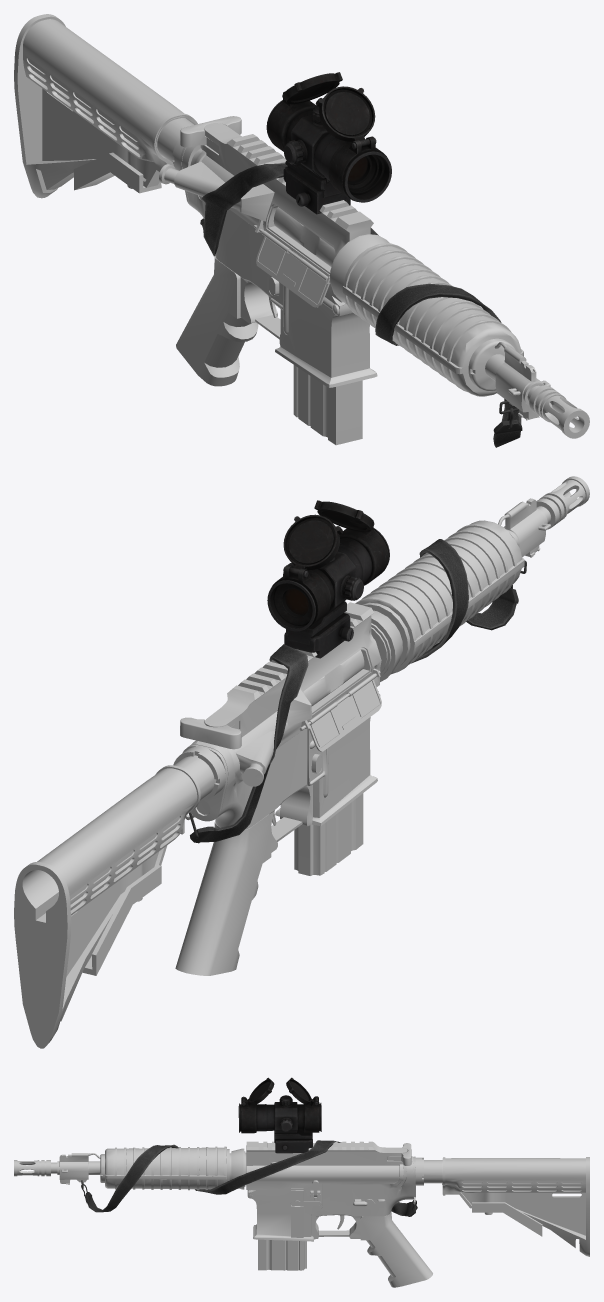
Rendered from Classic M4.fbx.
3 views of the same model, one above another, from view 1: azimuth 30°, elevation 25°; view 2: azimuth 150°, elevation 25°; view 3: azimuth 270°, elevation 25° (orthographic). The views are drawn at different scales.
Visible parts, largest first — view 1: Receiver_m4_0, Stock, Scope, Sling, Magazine, BoltCarrier, ChargingHandle; view 2: Receiver_m4_0, Stock, Scope, Sling, Magazine, ChargingHandle, BoltCarrier; view 3: Receiver_m4_0, Stock, Scope, Sling, Magazine.
Boxes of the visible parts, bbox=[...] form: Receiver_m4_0: bbox=[157, 118, 589, 438]; Stock: bbox=[14, 14, 197, 198]; Scope: bbox=[266, 72, 391, 214]; Sling: bbox=[200, 163, 522, 447]; Magazine: bbox=[293, 365, 362, 445]; BoltCarrier: bbox=[273, 207, 335, 266]; ChargingHandle: bbox=[180, 116, 241, 153]; Receiver_m4_0: bbox=[173, 476, 589, 975]; Stock: bbox=[14, 765, 200, 1048]; Scope: bbox=[267, 500, 389, 658]; Sling: bbox=[189, 539, 526, 843]; Magazine: bbox=[294, 793, 363, 875]; ChargingHandle: bbox=[180, 717, 241, 749]; BoltCarrier: bbox=[303, 650, 364, 706]; Receiver_m4_0: bbox=[14, 1141, 442, 1287]; Stock: bbox=[442, 1157, 589, 1256]; Scope: bbox=[238, 1077, 321, 1153]; Sling: bbox=[81, 1140, 417, 1216]; Magazine: bbox=[258, 1239, 306, 1270].
Size of the model in its own units: 154 by 615 by 1574.
